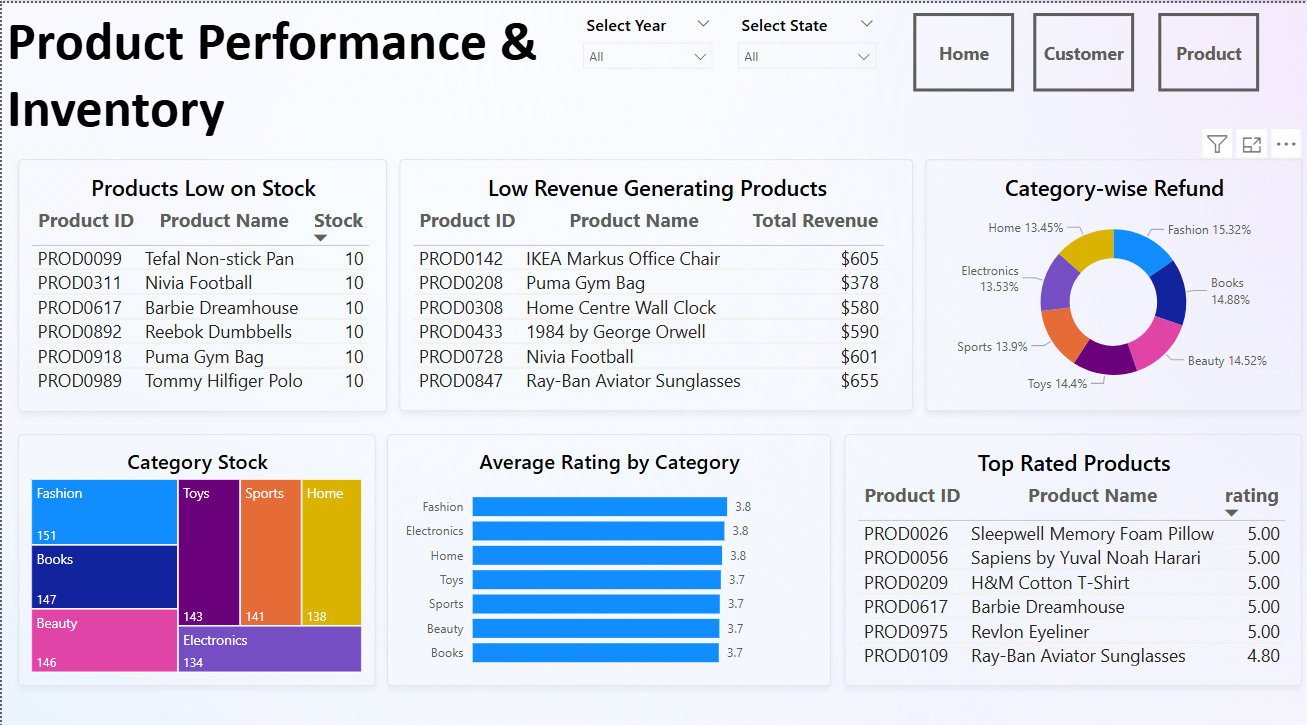

What the dashboard file says about the page in this screenshot:
{"tool":"powerbi","page":{"name":"Page 3","canvas":[1280,720],"ordinal":2},"visuals":[{"type":"textbox","box":[0,0,889.2,152.3],"z":0},{"type":"actionButton","box":[891.8,9.7,99,77.1],"z":0,"group":"g1"},{"type":"treemap","title":"Category Stock","fields":{"Group":["Table1.category"],"Values":["Table1.stock"]},"box":[15.9,421.8,349.4,246.4],"z":1},{"type":"clusteredBarChart","title":"Average Rating by Category","fields":{"Category":["Table1.category"],"Y":["Table1.rating"]},"box":[376.4,421.8,434,246.4],"z":2},{"type":"tableEx","title":"Products Low on Stock","fields":{"Values":["Table1.product_id","Table1.product_name","Table1.stock"]},"box":[15.9,152.9,360.7,247],"z":3},{"type":"tableEx","title":"Low Revenue Generating Products","fields":{"Values":["Table1.product_id","Table1.product_name","orders1.total_price"]},"box":[388.7,153.3,502.7,246.4],"z":4},{"type":"donutChart","title":"Category-wise Refund","fields":{"Category":["Table1.category"],"Y":["orders1.refund"]},"box":[903.6,153.3,367.8,246.4],"z":5},{"type":"tableEx","title":"Top Rated Products","fields":{"Values":["Table1.product_id","Table1.product_name","Table1.rating"]},"box":[823.9,421.8,447.5,246.4],"z":6},{"type":"slicer","fields":{"Values":["orders1.order_date.Variation.Date Hierarchy.Year"]},"box":[563.5,9.7,136.3,66.8],"z":7},{"type":"slicer","title":"Select State","fields":{"Values":["customers3.States"]},"box":[715.1,9.7,144.7,66.8],"z":8},{"type":"group","id":"g1","title":"Group 1","box":[891.8,9.7,338.1,76.5],"z":9},{"type":"actionButton","box":[1009,9.7,99,77.1],"z":1000,"group":"g1"},{"type":"actionButton","box":[1131.4,9.7,99,77.1],"z":2000,"group":"g1"}]}

Visuals, with their boxes in screenshot pixels (x1, y1, x2, y2), scaled from the page's 1280x720 canvas onto the 1307x725 screenshot:
textbox: (0,0,908,153)
actionButton: (911,10,1012,87)
"Category Stock" treemap: (16,425,373,673)
"Average Rating by Category" clusteredBarChart: (384,425,827,673)
"Products Low on Stock" tableEx: (16,154,385,403)
"Low Revenue Generating Products" tableEx: (397,154,910,402)
"Category-wise Refund" donutChart: (923,154,1298,402)
"Top Rated Products" tableEx: (841,425,1298,673)
slicer - orders1.order_date.Variation.Date Hierarchy.Year: (575,10,715,77)
"Select State" slicer: (730,10,878,77)
"Group 1" group: (911,10,1256,87)
actionButton: (1030,10,1131,87)
actionButton: (1155,10,1256,87)
